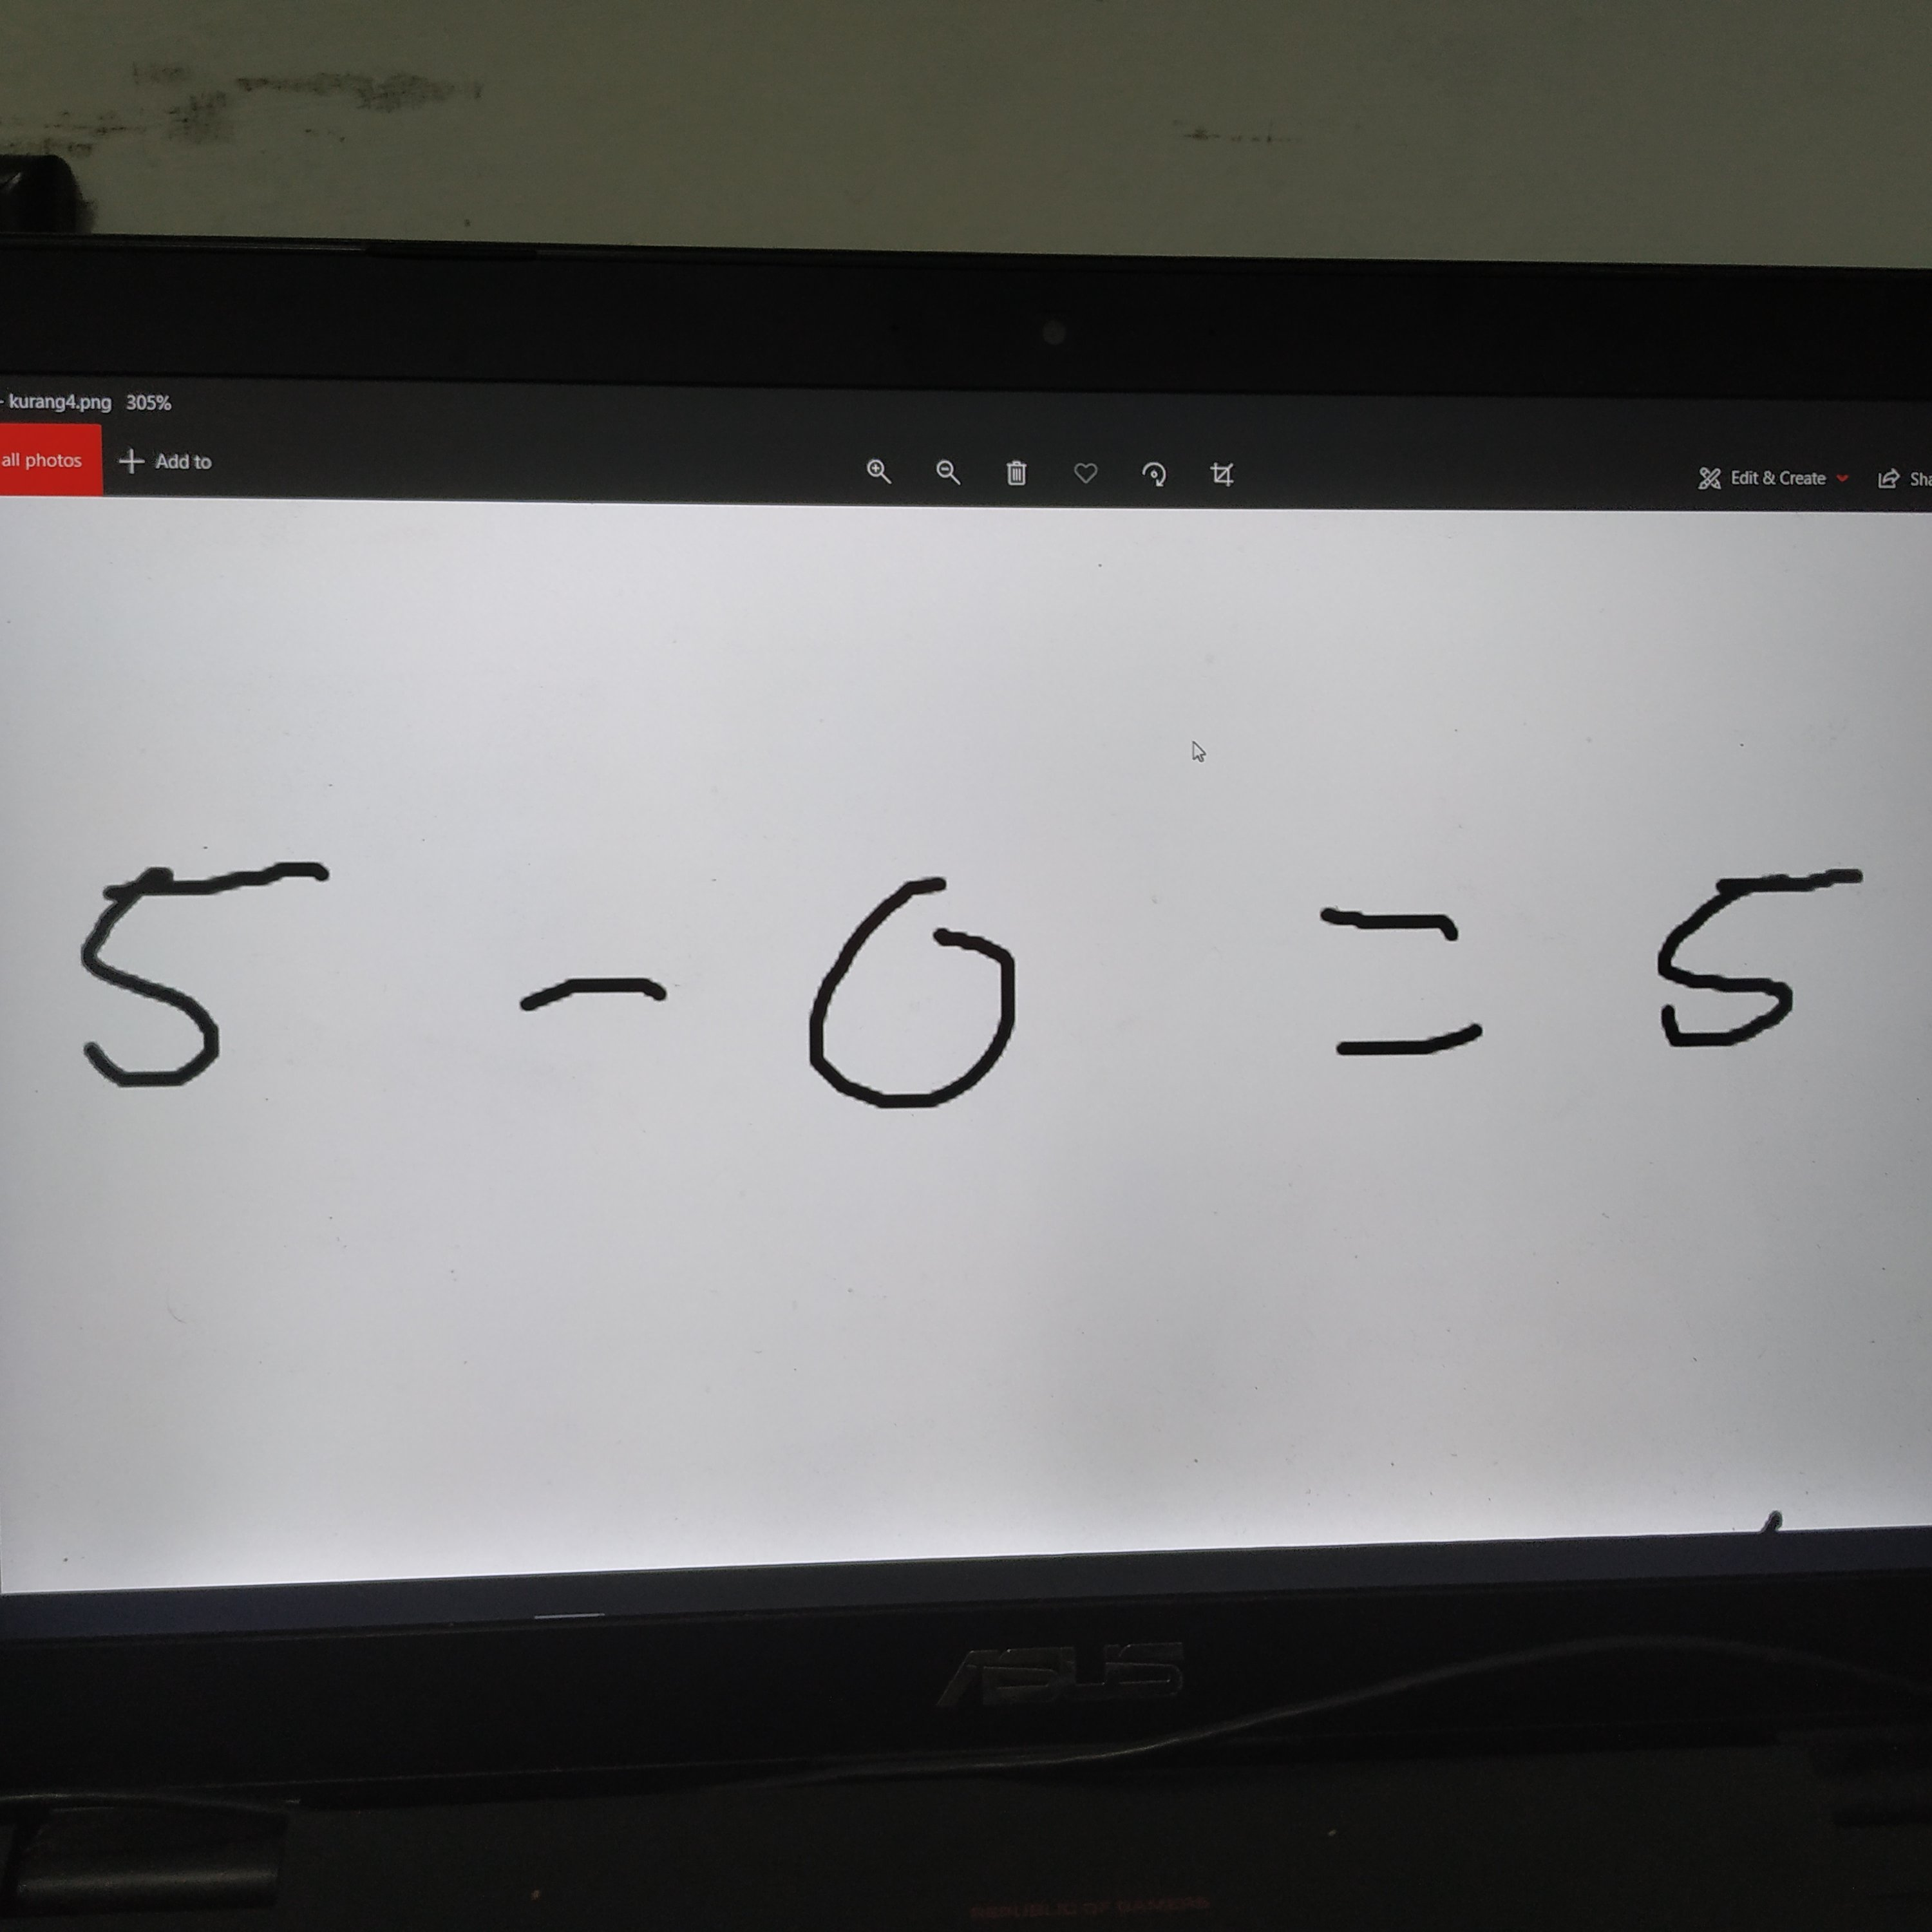equal: (1293, 887, 1523, 1074)
min: (507, 961, 677, 1039)
num0: (794, 870, 1039, 1113)
num5: (50, 853, 354, 1111), (1646, 860, 1887, 1059)
